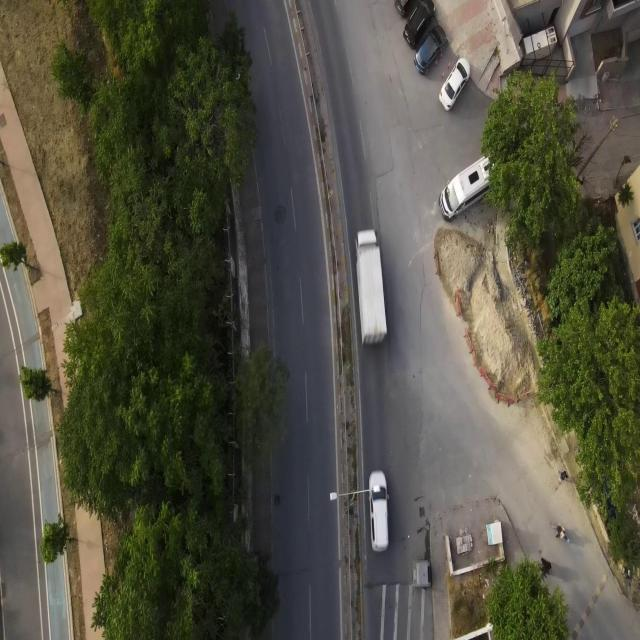p3rson: (553, 520, 568, 546), (556, 465, 568, 491), (541, 553, 551, 573)
